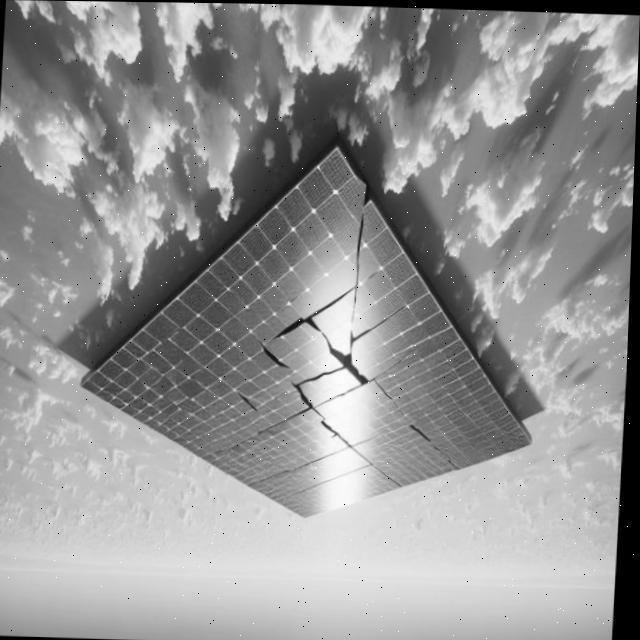Anomaly Solar Panel: (85, 149, 576, 640)
Structural Damage: (272, 209, 491, 428), (235, 358, 407, 520), (411, 420, 458, 462), (256, 336, 295, 376), (238, 388, 263, 416)
